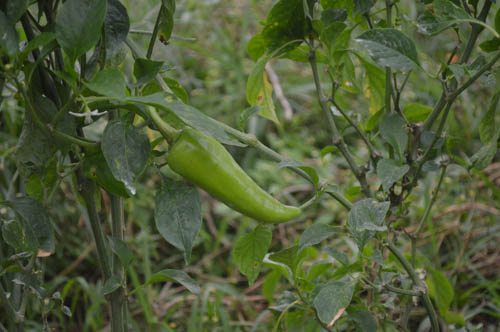ChiliPepper: (168, 127, 301, 224)
